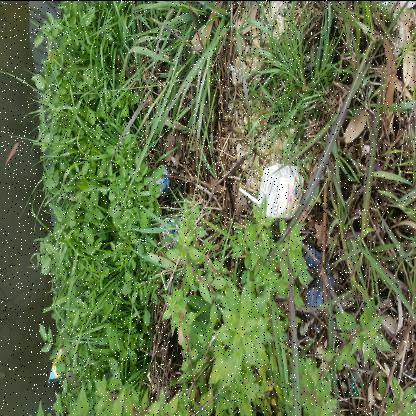cardboard: (196, 238, 252, 304)
plastic: (219, 148, 253, 171)
